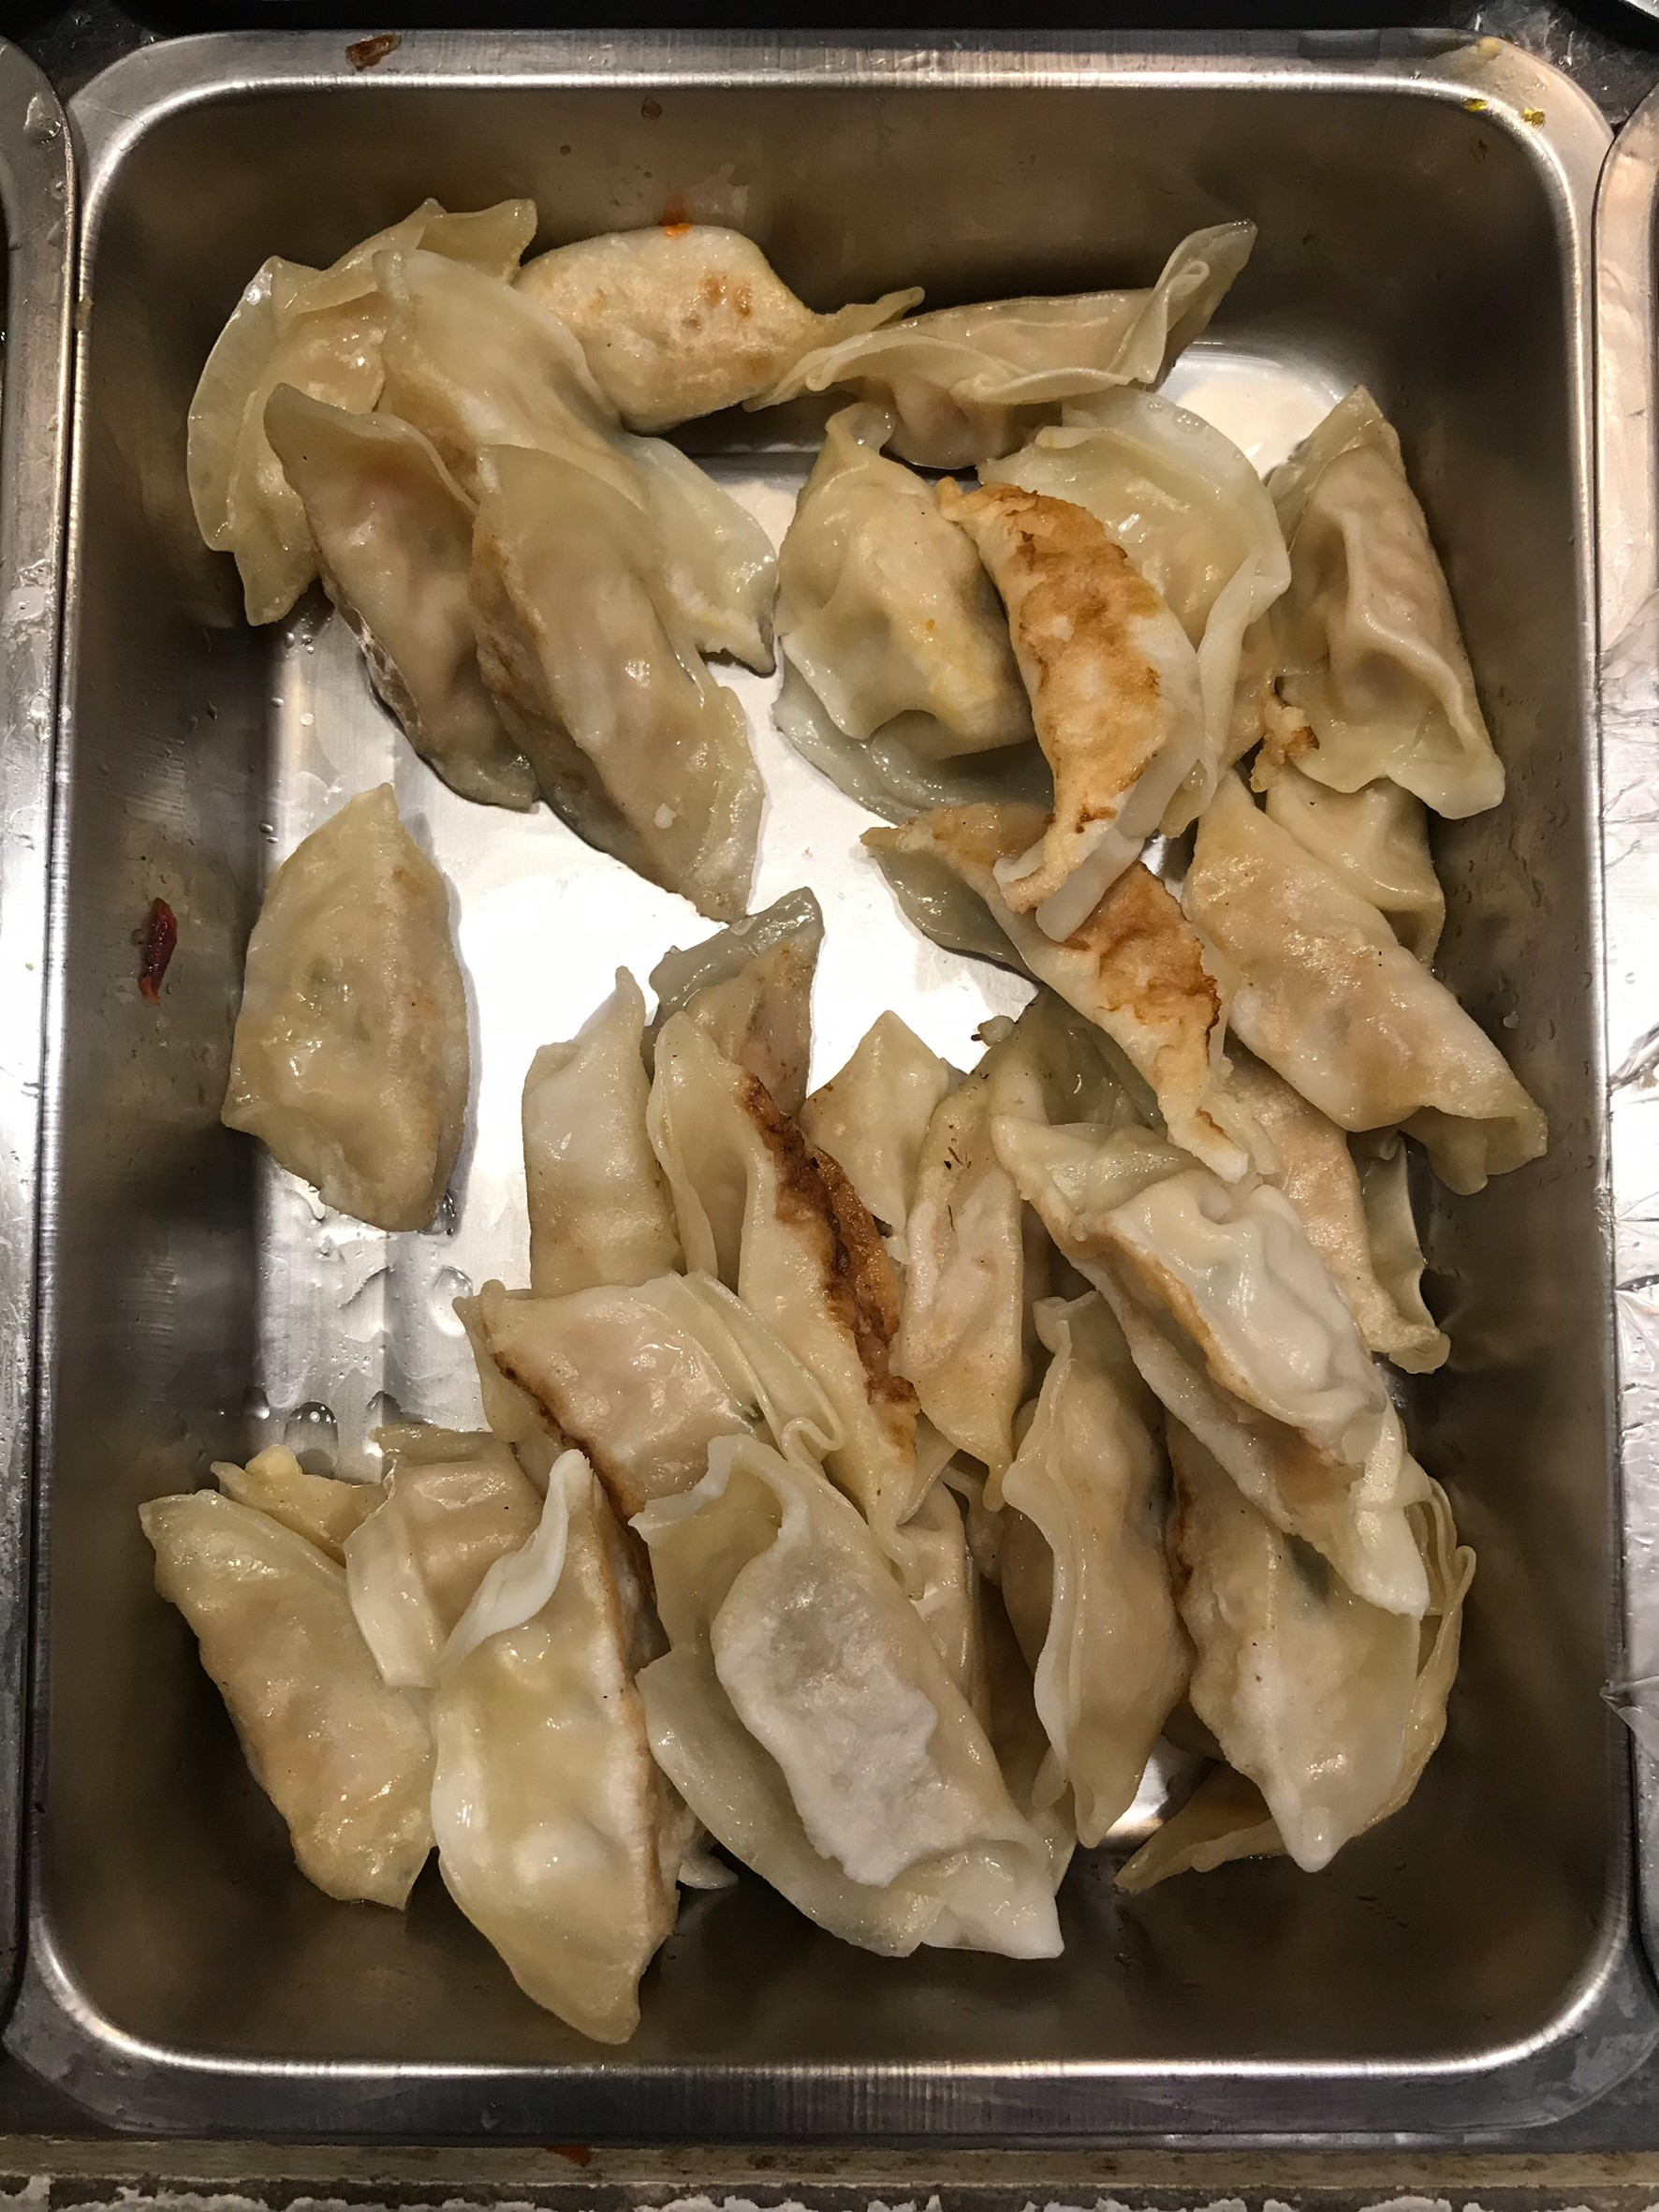fried_dumplings: (211, 248, 1466, 1825)
